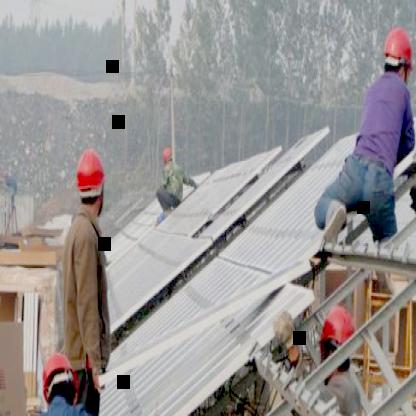helmet: (74, 142, 108, 226), (39, 350, 77, 414), (381, 23, 416, 85), (320, 308, 352, 356), (164, 144, 174, 168)
